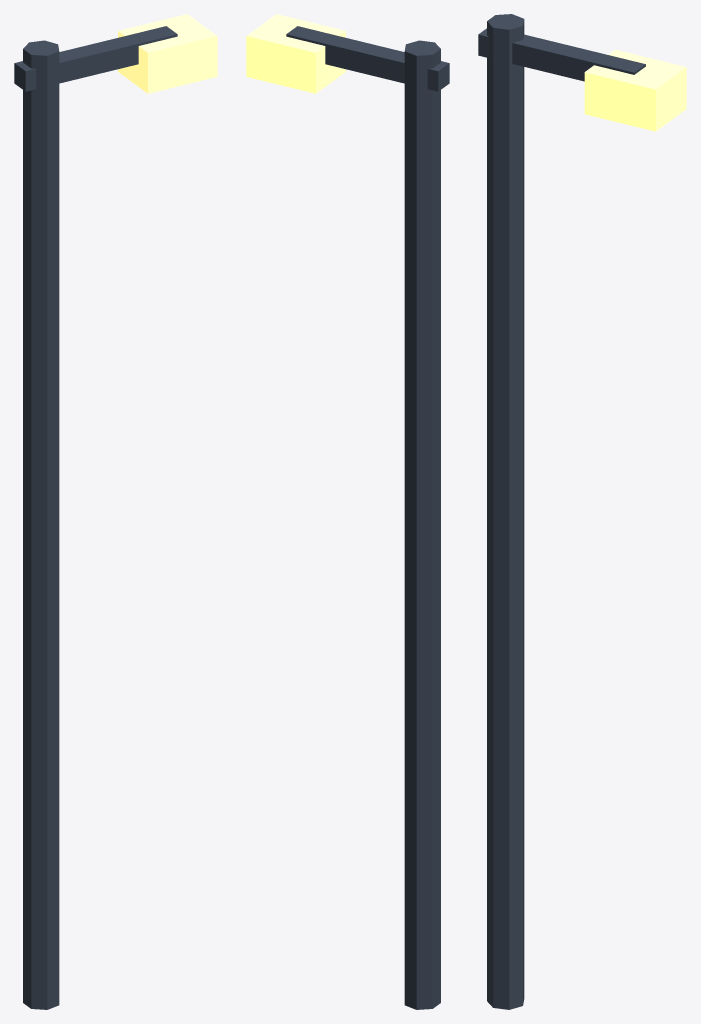
File: streetlamp.glb
The picture shows the model from 3 angles, left to right: view 1: azimuth 30°, elevation 25°; view 2: azimuth 150°, elevation 25°; view 3: azimuth 330°, elevation 25°; orthographic projection. The views are drawn at different scales.
Visible parts, largest first — view 1: streetlamp; view 2: streetlamp; view 3: streetlamp.
Part boxes in pixels (x1,y1,x2,y2): streetlamp: (14, 14, 217, 1009); streetlamp: (246, 14, 449, 1009); streetlamp: (478, 14, 686, 1009).
Size of the model in its own units: 0.84 by 4.2 by 0.24.
